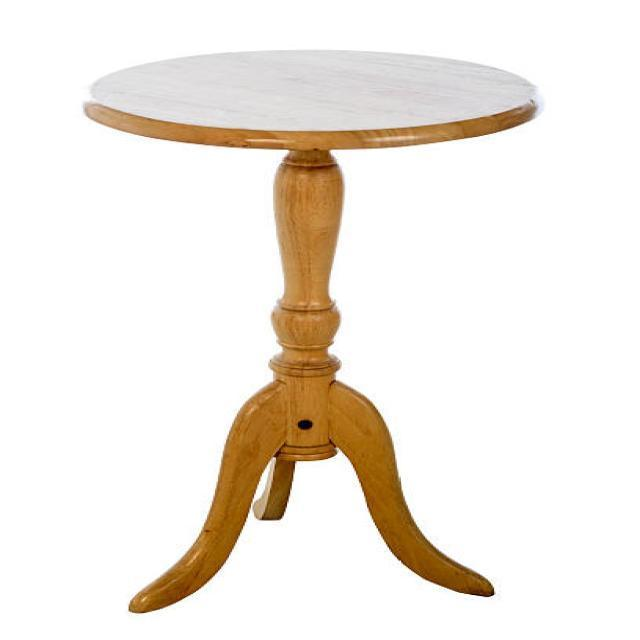table: (81, 48, 542, 613)
